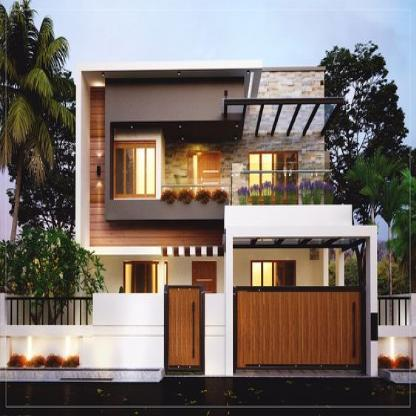Balcony: (161, 162, 333, 207)
Building Outline: (0, 58, 378, 382)
Door: (194, 264, 215, 329), (198, 154, 219, 213)
Facade: (75, 58, 378, 382)
Floor Slab: (89, 214, 352, 228)
Window: (250, 154, 296, 200), (252, 263, 293, 308), (126, 265, 166, 311), (115, 148, 155, 194), (189, 154, 197, 213)
